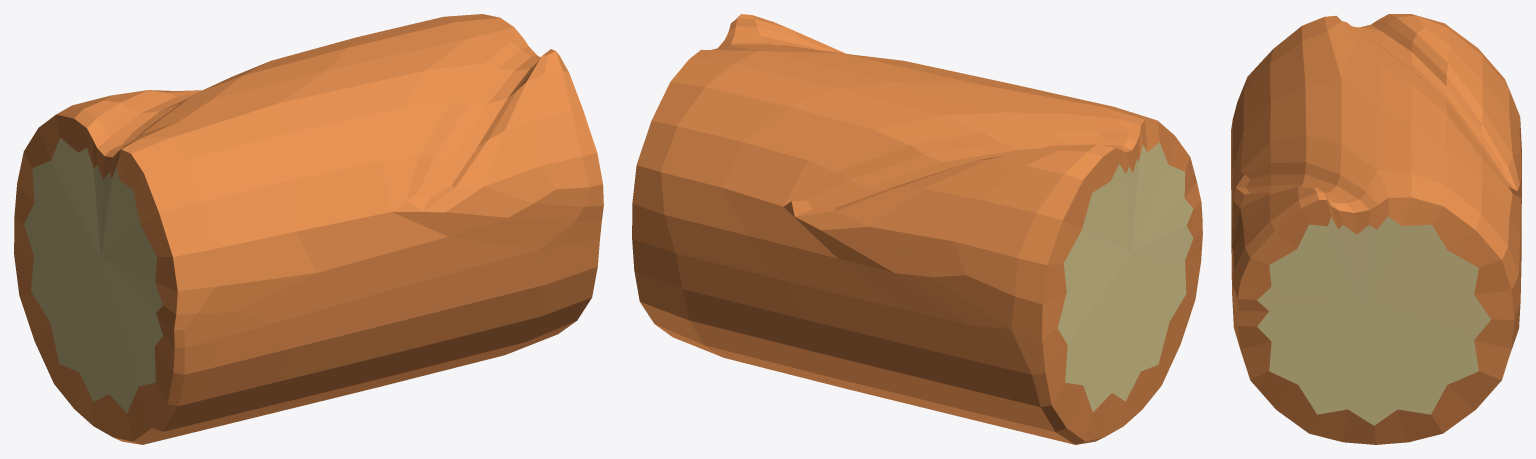
The model's file is BaugetteMidLeft.fbx.
The picture shows the model from 3 angles, left to right: view 1: azimuth 30°, elevation 25°; view 2: azimuth 150°, elevation 25°; view 3: azimuth 270°, elevation 25°; orthographic projection. The views are drawn at different scales.
Parts seen in each view (by area): view 1: Куб.002; view 2: Куб.002; view 3: Куб.002.
Boxes of the visible parts, box(x1,y1,x2,y2) form: Куб.002: box(14, 14, 603, 444); Куб.002: box(632, 14, 1202, 444); Куб.002: box(1231, 14, 1521, 444).
Bounding box in the file's own units: 150 × 99.76 × 100.
